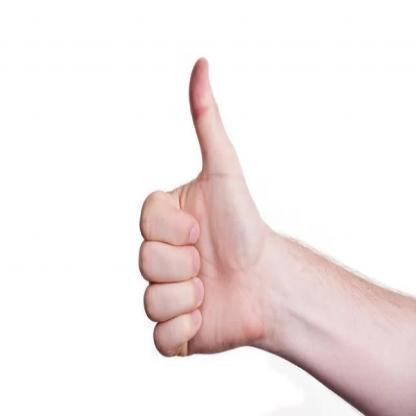thumb_up: (133, 54, 265, 360)
